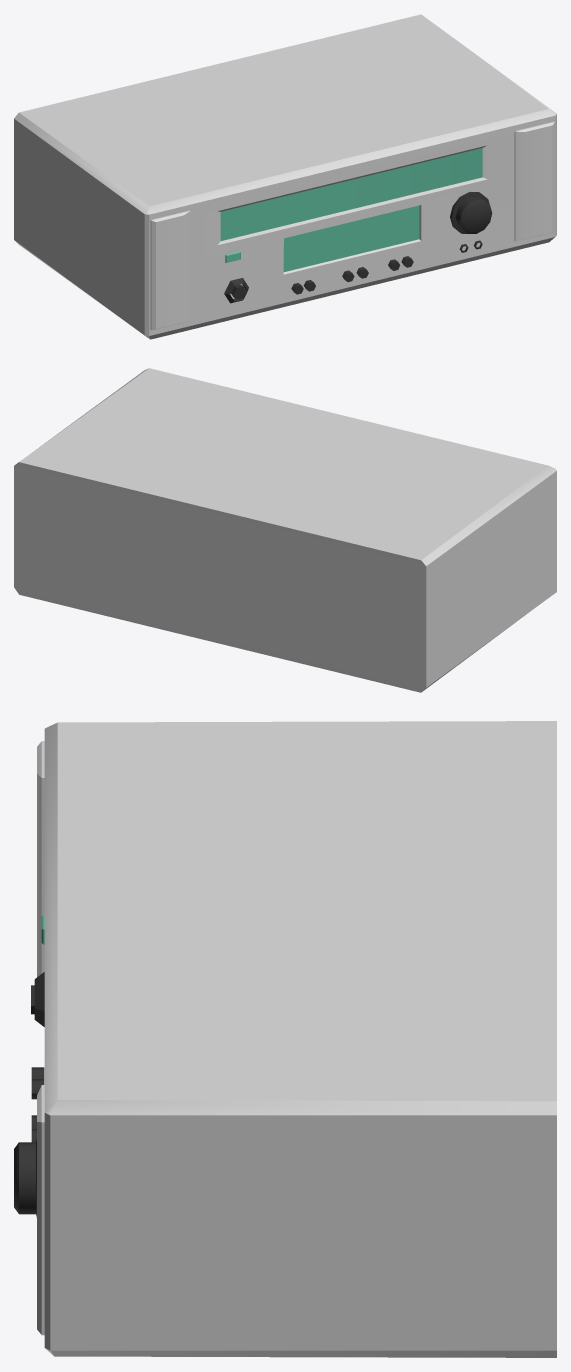
File: YMH8900d.FBX
3 renders of one model, top to bottom at view 1: azimuth 30°, elevation 25°; view 2: azimuth 150°, elevation 25°; view 3: azimuth 270°, elevation 25°, orthographic. The views are drawn at different scales.
Parts seen in each view (by area): view 1: YMH8900d; view 2: YMH8900d; view 3: YMH8900d.
Part boxes in pixels (left/top/right/bottom): YMH8900d: left=14, top=14, right=556, bottom=339; YMH8900d: left=14, top=368, right=556, bottom=692; YMH8900d: left=14, top=721, right=556, bottom=1357.
Size of the model in its own units: 54.64 by 32.18 by 17.77.
